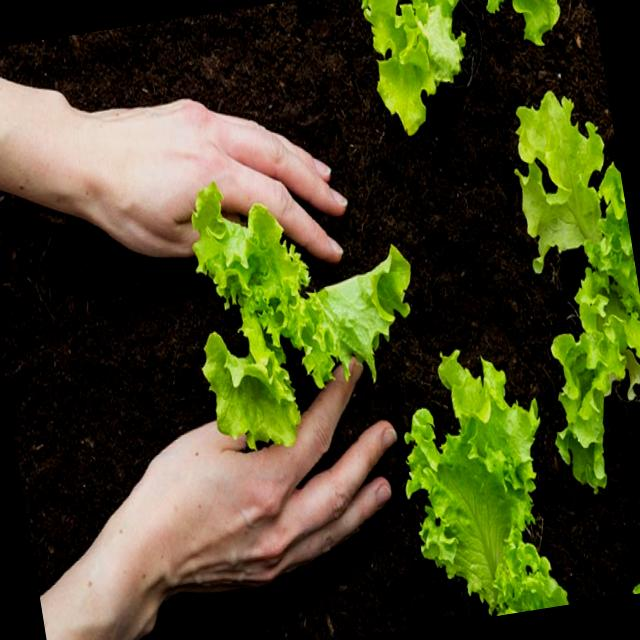verde: (193, 183, 410, 448), (405, 350, 569, 614)
